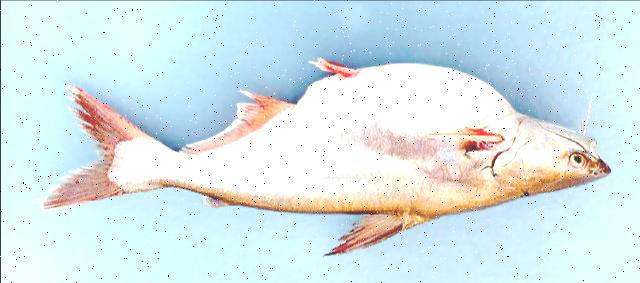Mulut: (553, 129, 617, 191)
Sirip Anal: (172, 83, 294, 163)
Sirip Dada: (420, 114, 500, 160)
Sirip Ekor: (23, 74, 156, 214)
Sirip Perut: (300, 45, 364, 90)
Sirip Punggung: (318, 200, 420, 266)
